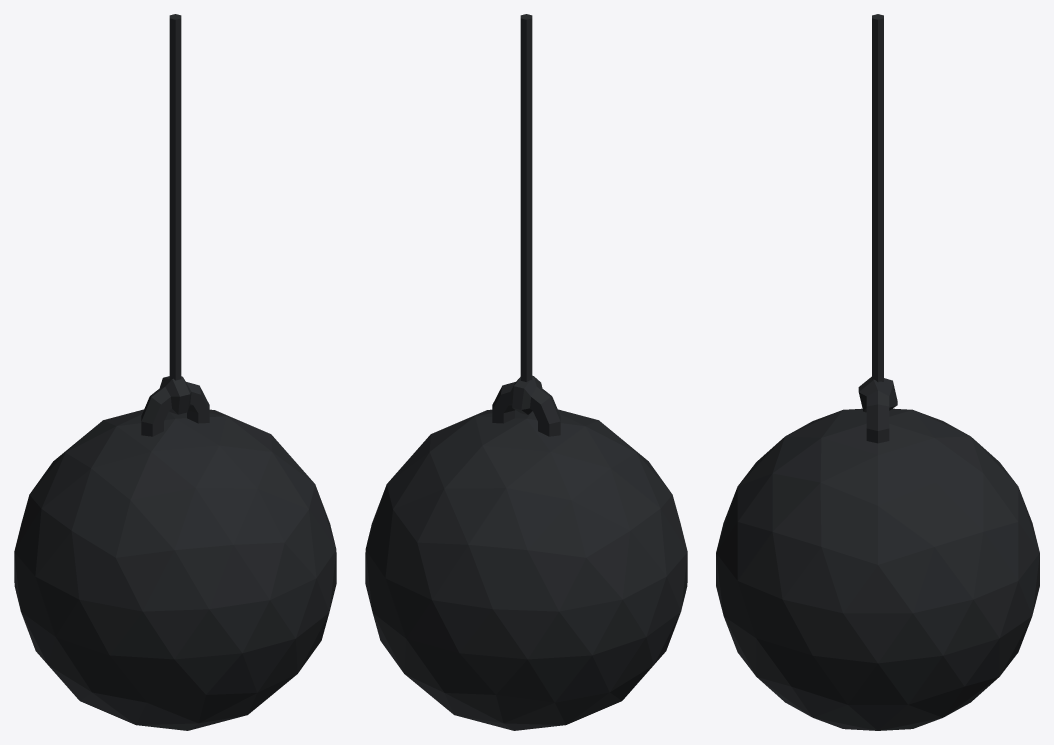
File: SM_Veh_Crane_01_WreckingBall_01.fbx
The picture shows the model from 3 angles, left to right: view 1: azimuth 30°, elevation 25°; view 2: azimuth 150°, elevation 25°; view 3: azimuth 270°, elevation 25°; orthographic projection.
Parts seen in each view (by area): view 1: SM_Veh_Crane_01_WreckingBall_01, SM_Veh_Crane_01_WreckingBall_01_Cable; view 2: SM_Veh_Crane_01_WreckingBall_01, SM_Veh_Crane_01_WreckingBall_01_Cable; view 3: SM_Veh_Crane_01_WreckingBall_01, SM_Veh_Crane_01_WreckingBall_01_Cable.
Boxes of the visible parts, left/top/right/bottom form: SM_Veh_Crane_01_WreckingBall_01: left=14, top=376, right=336, bottom=730; SM_Veh_Crane_01_WreckingBall_01_Cable: left=169, top=14, right=181, bottom=380; SM_Veh_Crane_01_WreckingBall_01: left=365, top=375, right=687, bottom=730; SM_Veh_Crane_01_WreckingBall_01_Cable: left=520, top=14, right=532, bottom=381; SM_Veh_Crane_01_WreckingBall_01: left=716, top=376, right=1039, bottom=730; SM_Veh_Crane_01_WreckingBall_01_Cable: left=872, top=14, right=883, bottom=382.
Bounding box in the file's own units: 151 × 359 × 150.
